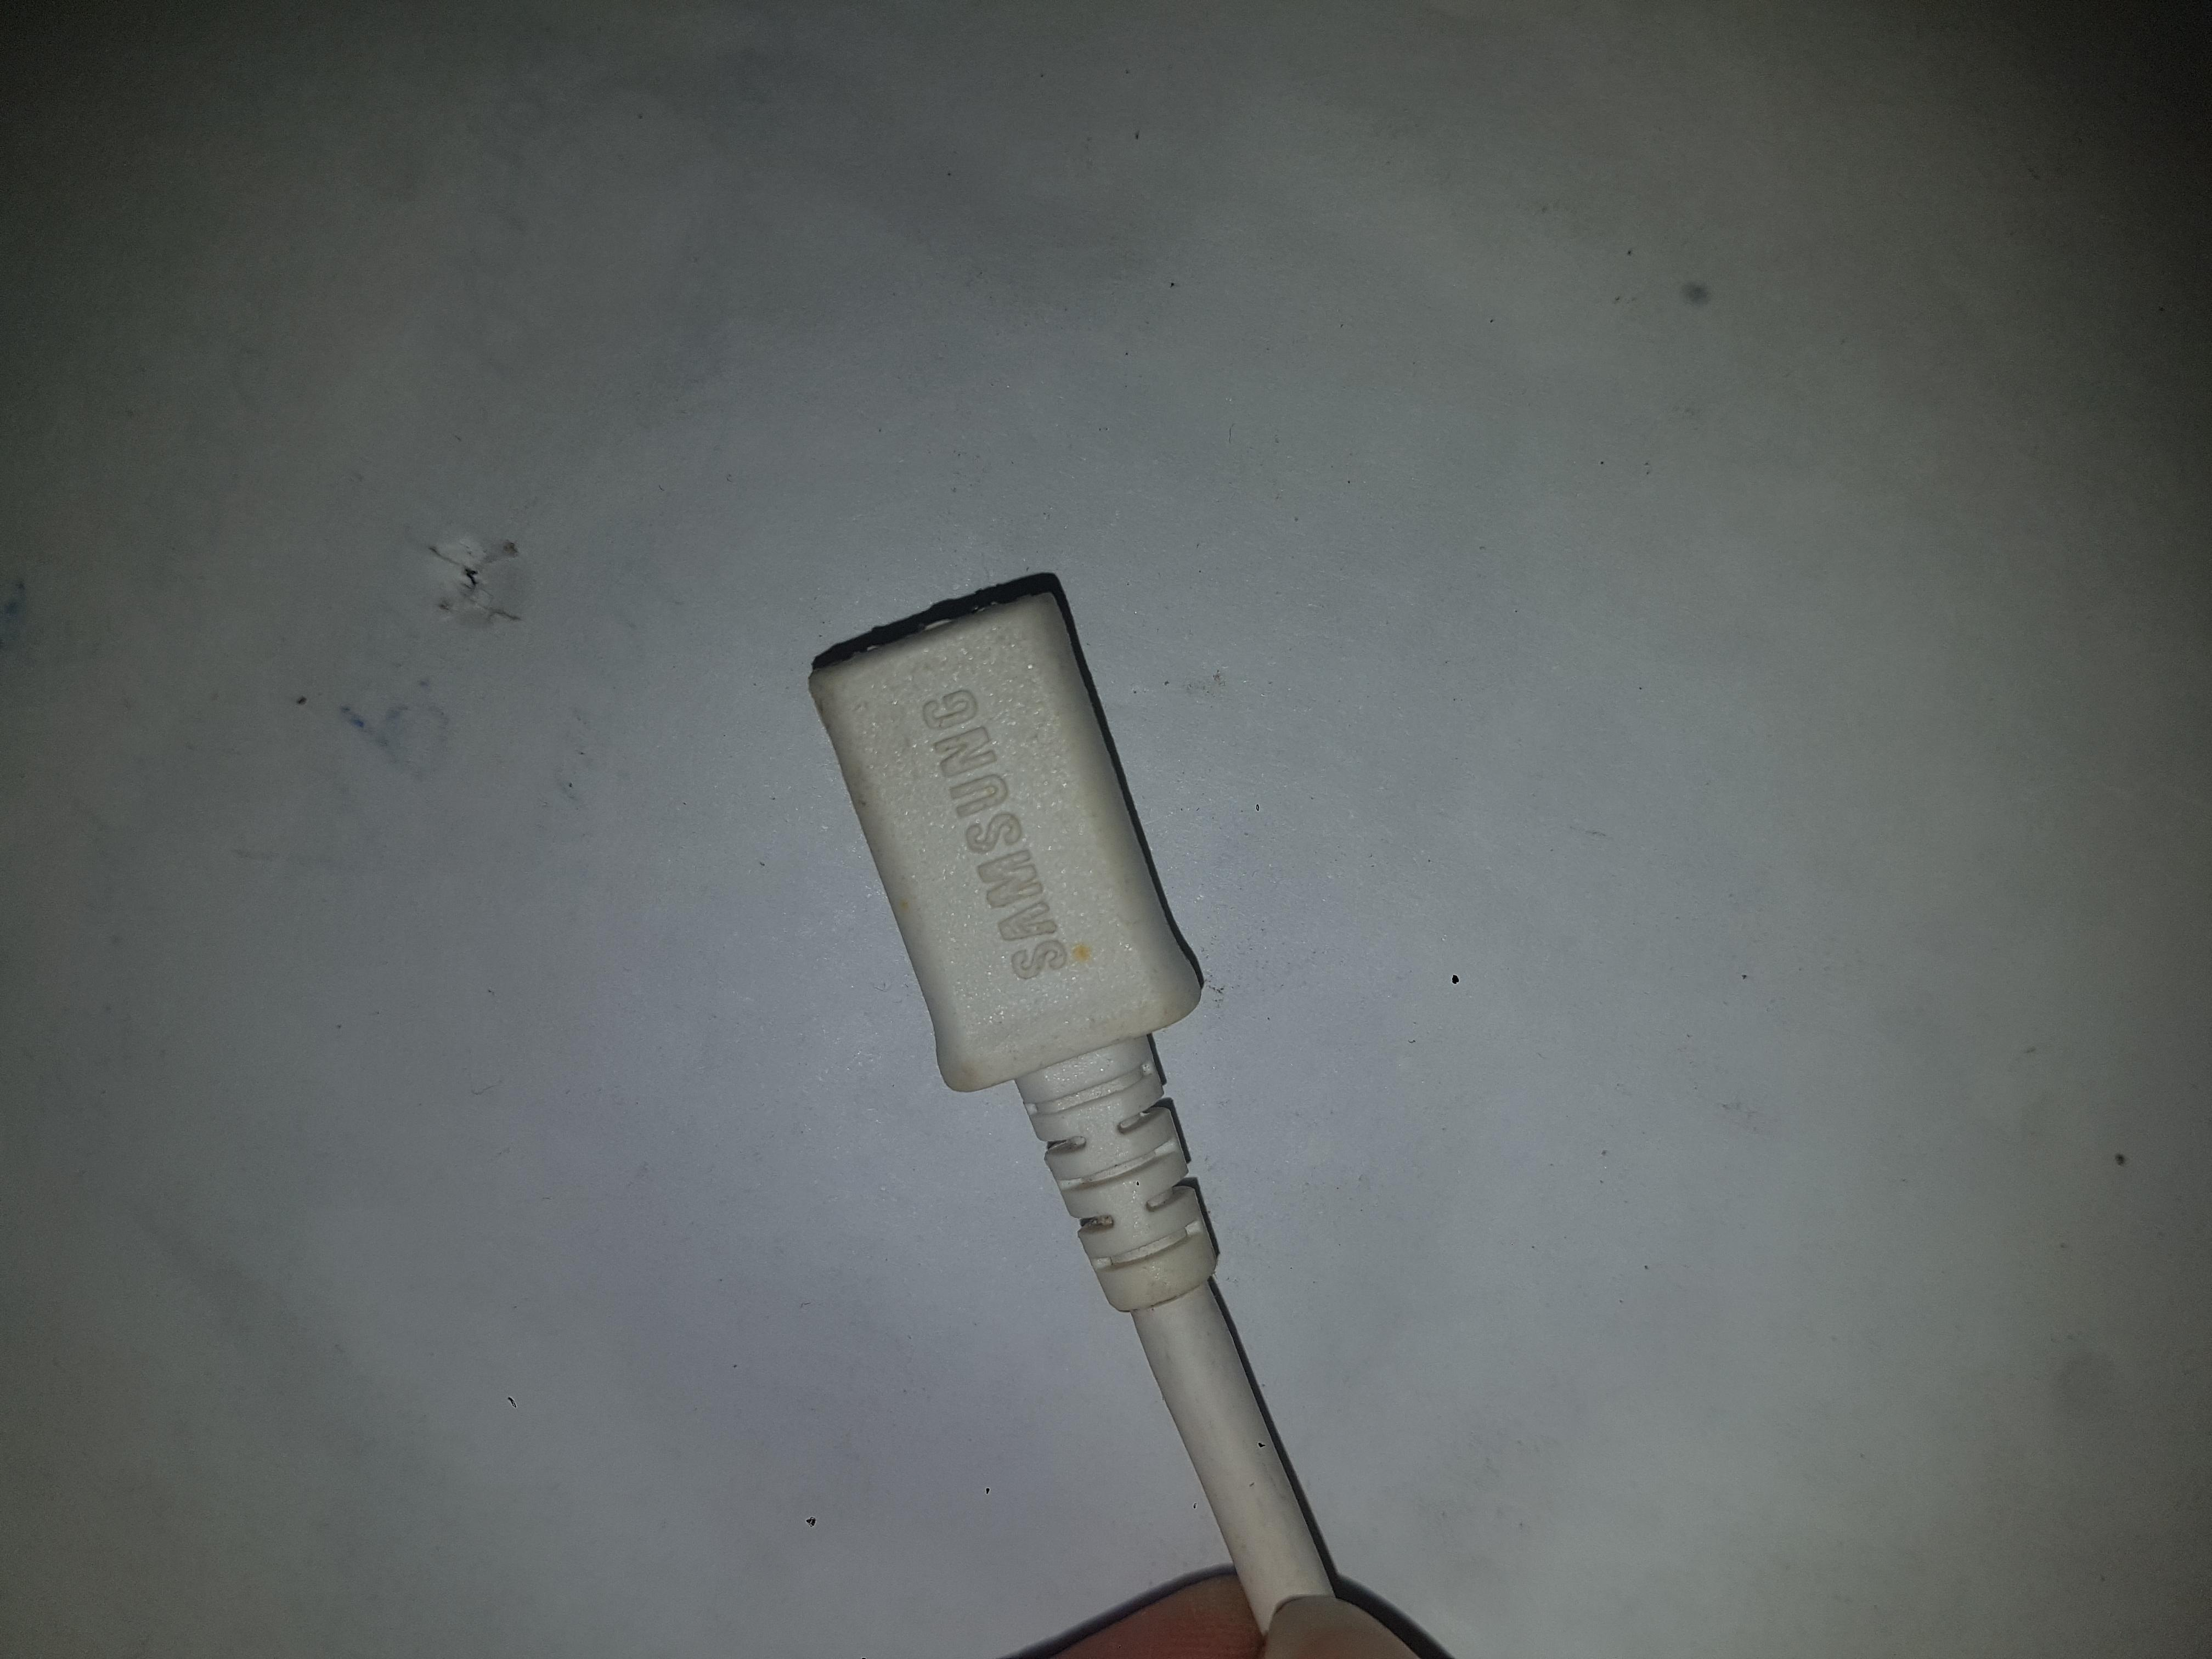electronic: (723, 3, 1402, 1079)
